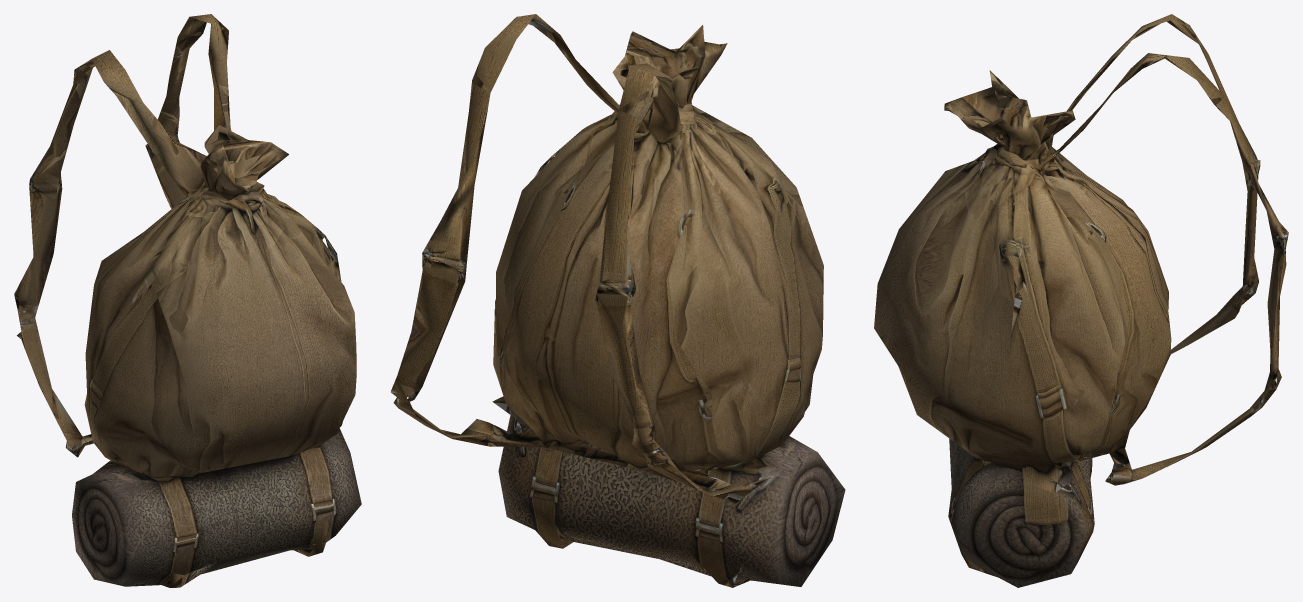
File: Canvas Rucksack.fbx
The picture shows the model from 3 angles, left to right: view 1: azimuth 30°, elevation 25°; view 2: azimuth 150°, elevation 25°; view 3: azimuth 270°, elevation 25°; orthographic projection. The views are drawn at different scales.
Visible parts, largest first — view 1: texture_mapping; view 2: texture_mapping; view 3: texture_mapping.
Part boxes in pixels (bbox=[...]): texture_mapping: bbox=[14, 14, 361, 587]; texture_mapping: bbox=[390, 14, 845, 587]; texture_mapping: bbox=[874, 14, 1288, 587].
Bounding box in the file's own units: 0.551 × 0.7337 × 0.9955.
Materials: 1 (1 with a texture image).
